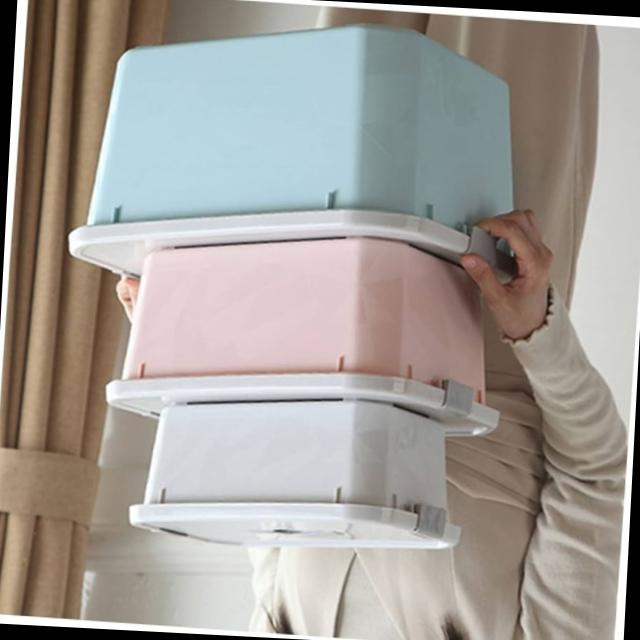plastic_box: (45, 0, 523, 294), (94, 230, 513, 450), (113, 378, 468, 572)
